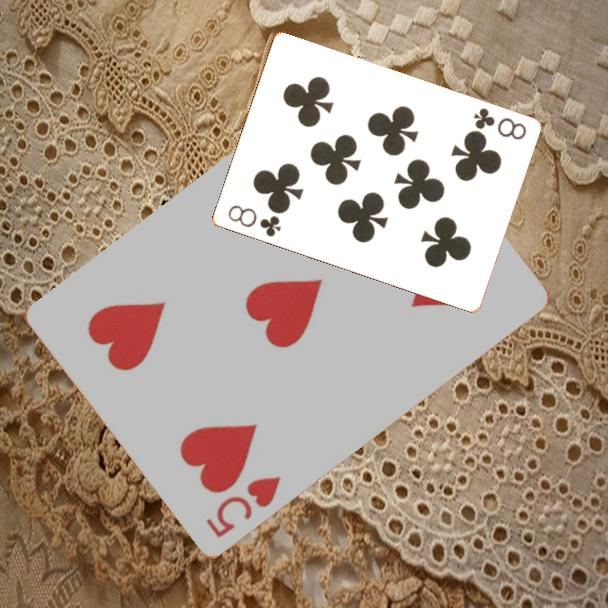c08: (224, 201, 283, 240), (470, 104, 529, 143)
h05: (202, 473, 284, 541)
